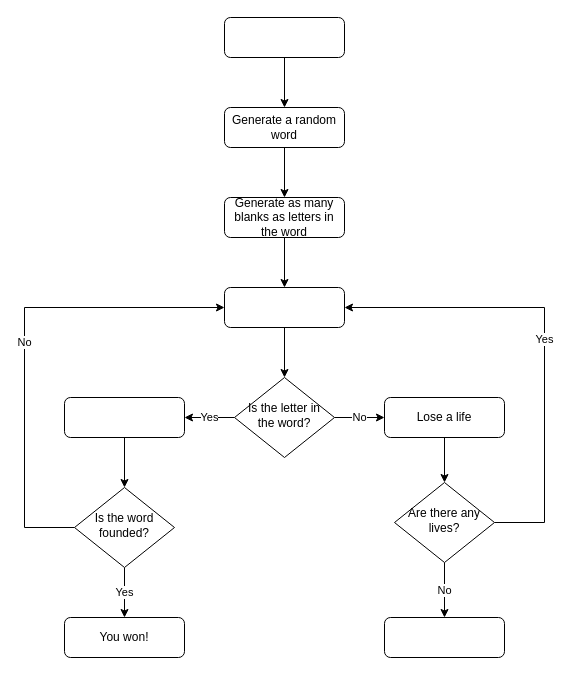
This 571x675 diagram has some shape labels left out. Each missing label, with the centre of its shape:
Ask the user to guess a letter: (284,307)
Game over!: (444,637)
Replace the blank(s) with the letter(s): (124,417)
Start: (284,37)
